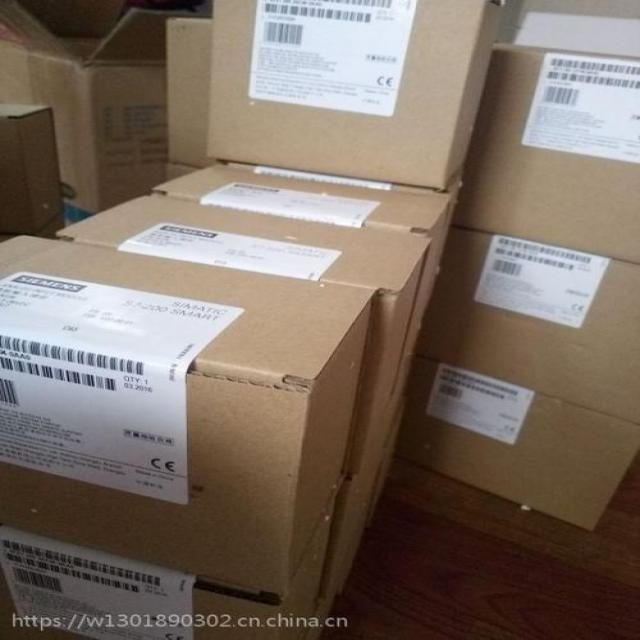box: (1, 230, 380, 588), (196, 0, 509, 191), (420, 224, 640, 428), (394, 356, 640, 532), (441, 44, 640, 261)
